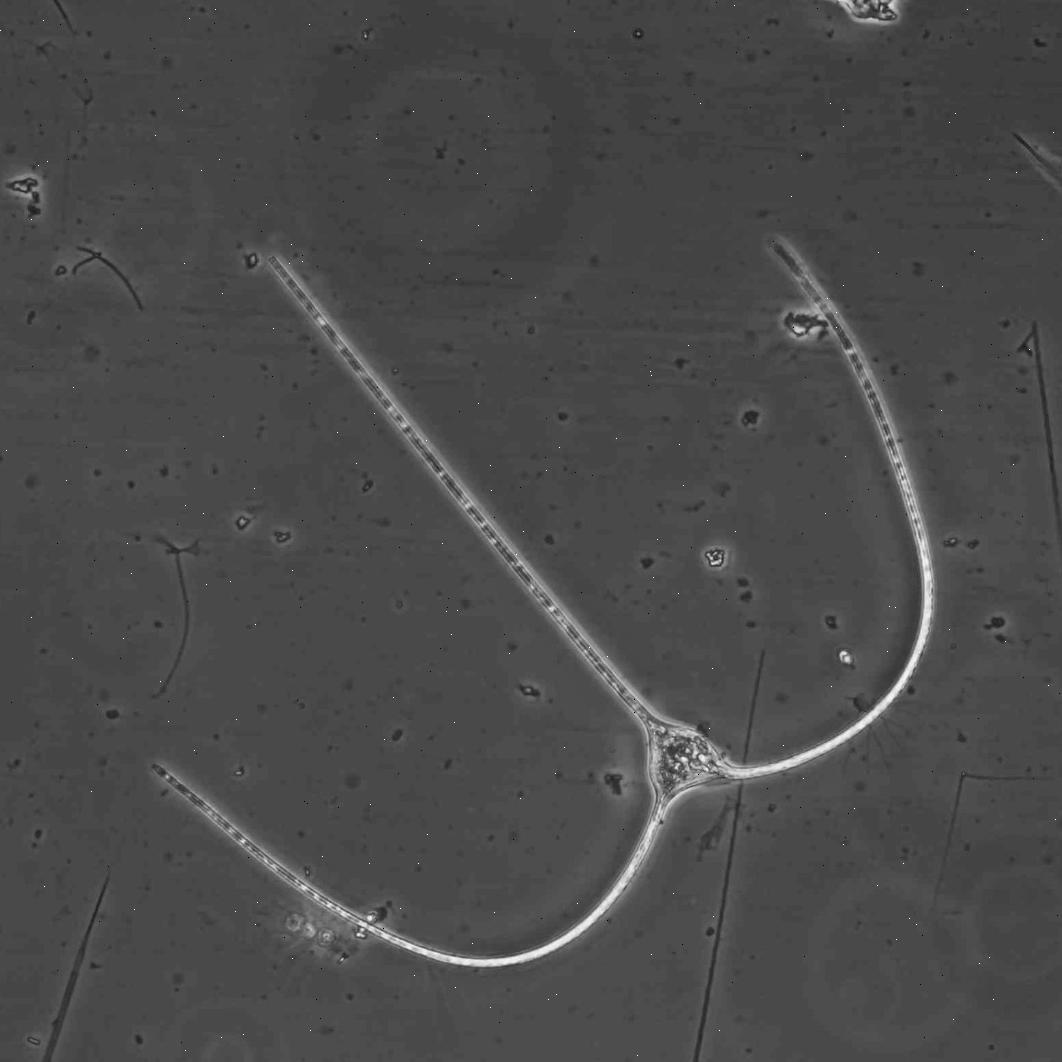ceratium_trichorecos: (150, 235, 936, 968)
